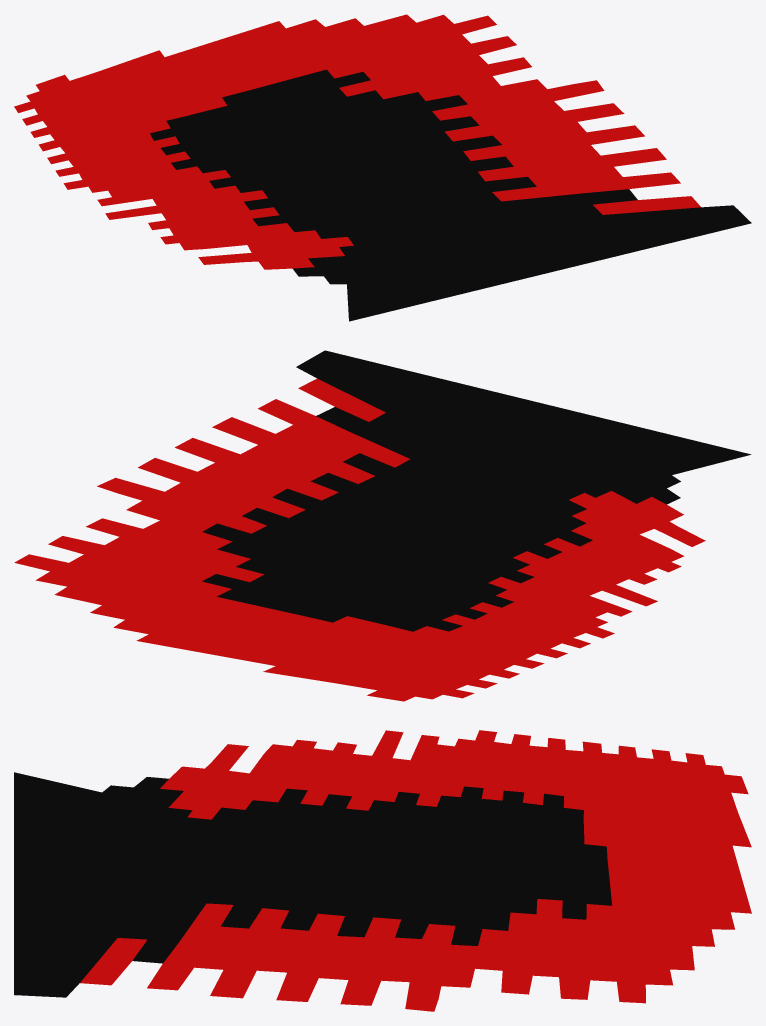
File: portfolio_brickwall.gltf
3 renders of one model, top to bottom at view 1: azimuth 30°, elevation 25°; view 2: azimuth 150°, elevation 25°; view 3: azimuth 270°, elevation 25°, orthographic. The views are drawn at different scales.
Parts seen in each view (by area): view 1: Plane; view 2: Plane; view 3: Plane.
Boxes of the visible parts, left/top/right/bottom form: Plane: left=14, top=14, right=751, bottom=321; Plane: left=14, top=350, right=751, bottom=701; Plane: left=14, top=730, right=751, bottom=1011.
Size of the model in its own units: 1.8 by 0 by 1.99.
